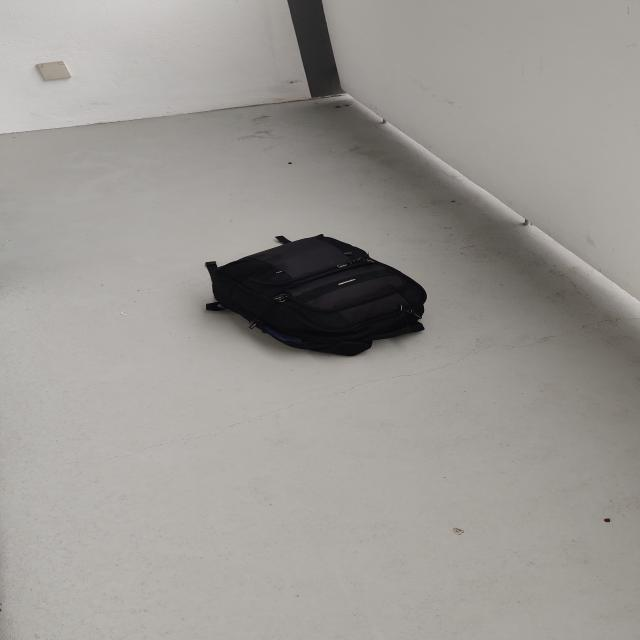backpack: (201, 227, 435, 360)
